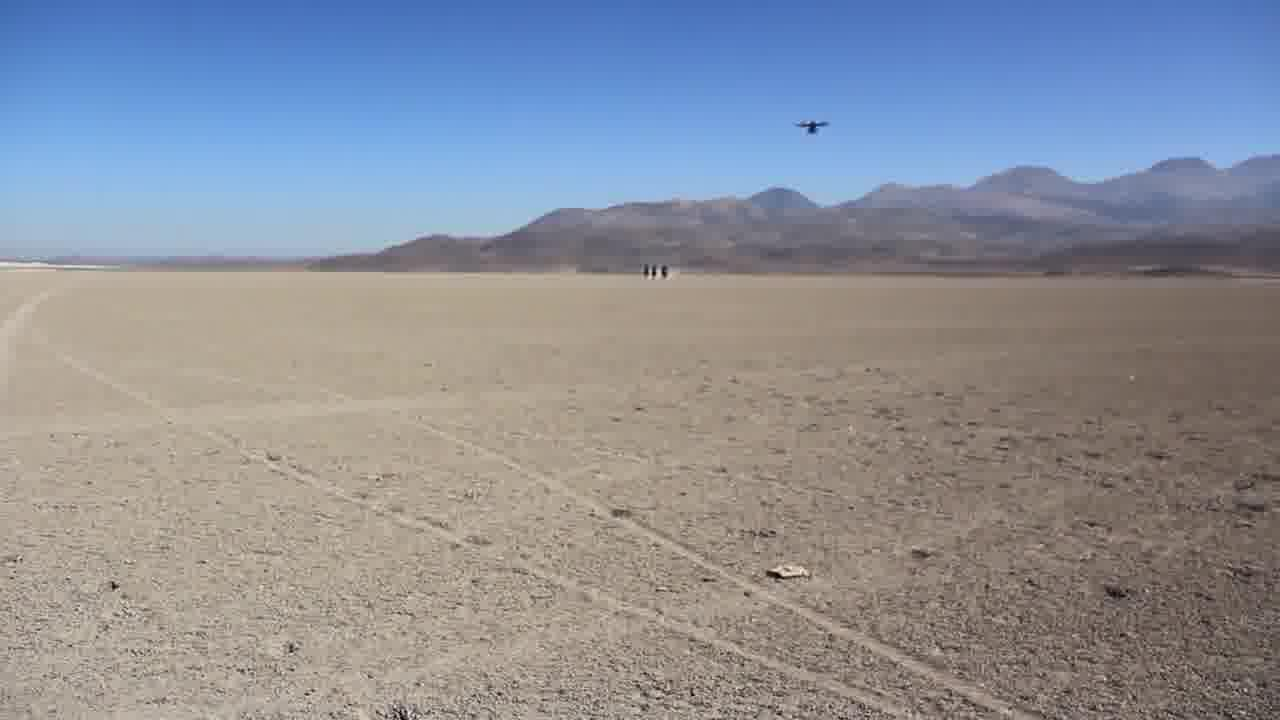drone: (790, 113, 832, 137)
